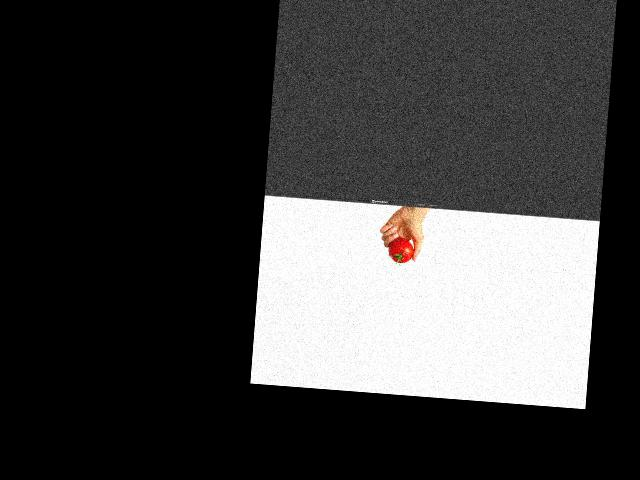tomato: (388, 236, 414, 264)
